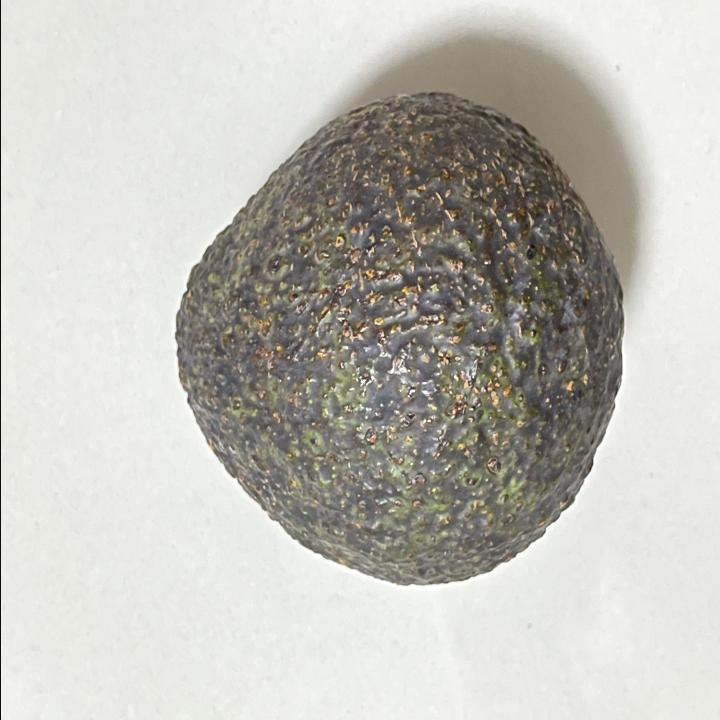Level1: (155, 83, 631, 600)
